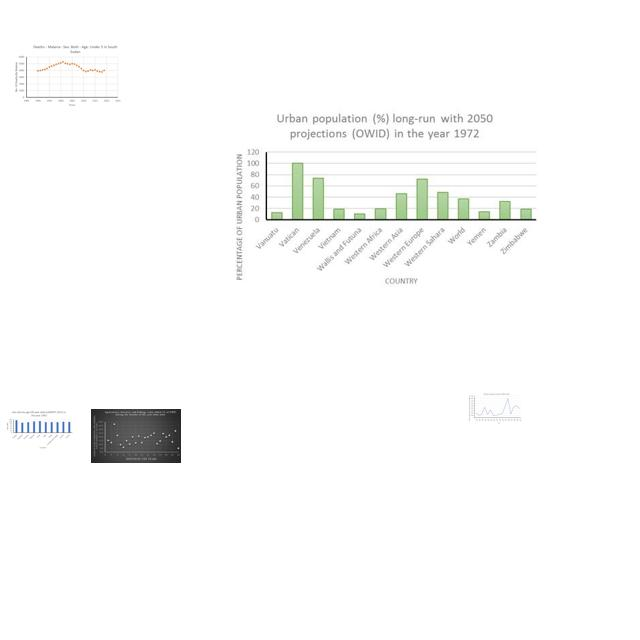Graph: (230, 109, 540, 292), (12, 43, 122, 107), (91, 409, 181, 463), (5, 410, 73, 449), (468, 393, 522, 424)
